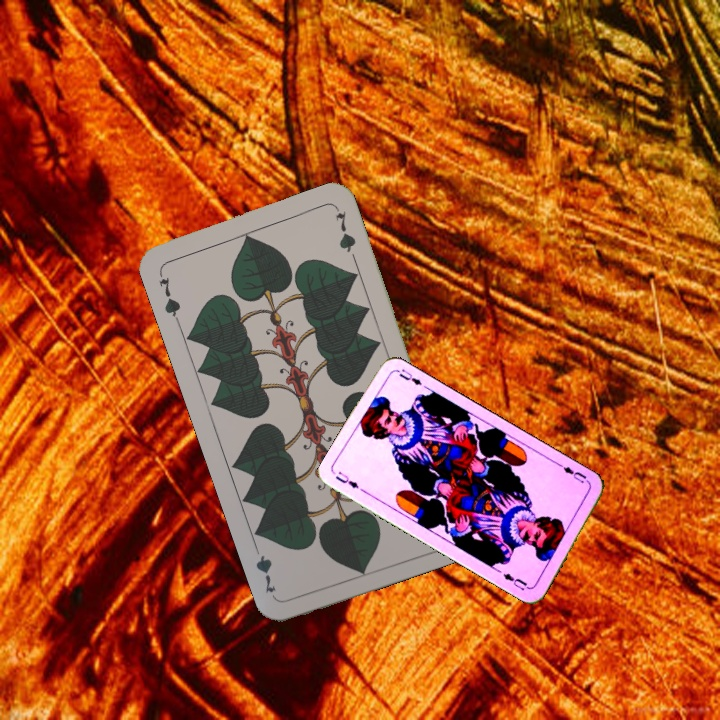EU: (555, 460, 589, 486), (331, 467, 361, 491)
G7: (155, 267, 183, 325)
